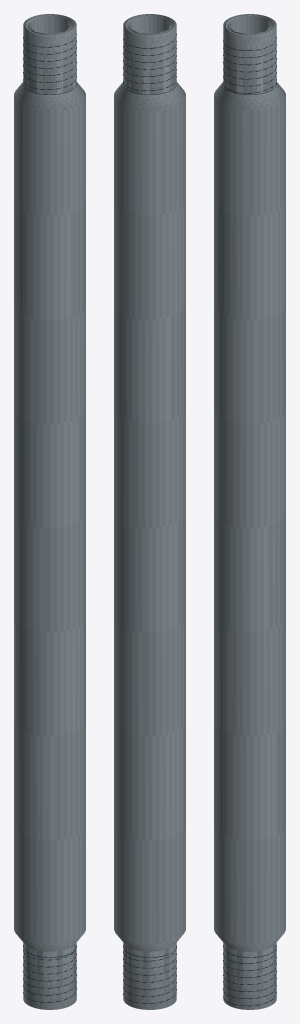
Rendered from pony.glb.
3 renders of one model, left to right at view 1: azimuth 90°, elevation 25°; view 2: azimuth 150°, elevation 25°; view 3: azimuth 270°, elevation 25°, orthographic.
Visible parts, largest first — view 1: tool-housing (×3), uphole-connection (×3), downhole-connection (×3); view 2: tool-housing (×3), uphole-connection (×3), downhole-connection (×3); view 3: tool-housing (×3), uphole-connection (×3), downhole-connection (×3).
Boxes of the visible parts, bbox=[...] form: tool-housing (×3): bbox=[14, 14, 85, 1009]; uphole-connection (×3): bbox=[23, 14, 76, 94]; downhole-connection (×3): bbox=[23, 943, 76, 1009]; tool-housing (×3): bbox=[114, 14, 185, 1009]; uphole-connection (×3): bbox=[123, 14, 176, 94]; downhole-connection (×3): bbox=[123, 943, 176, 1009]; tool-housing (×3): bbox=[214, 14, 285, 1009]; uphole-connection (×3): bbox=[223, 14, 276, 94]; downhole-connection (×3): bbox=[223, 943, 276, 1009].
Size of the model in its own units: 0.1119 by 1.67 by 0.1119.
Materials: 2 (2 with a texture image).
